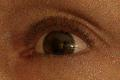eye: (43, 31, 74, 56)
